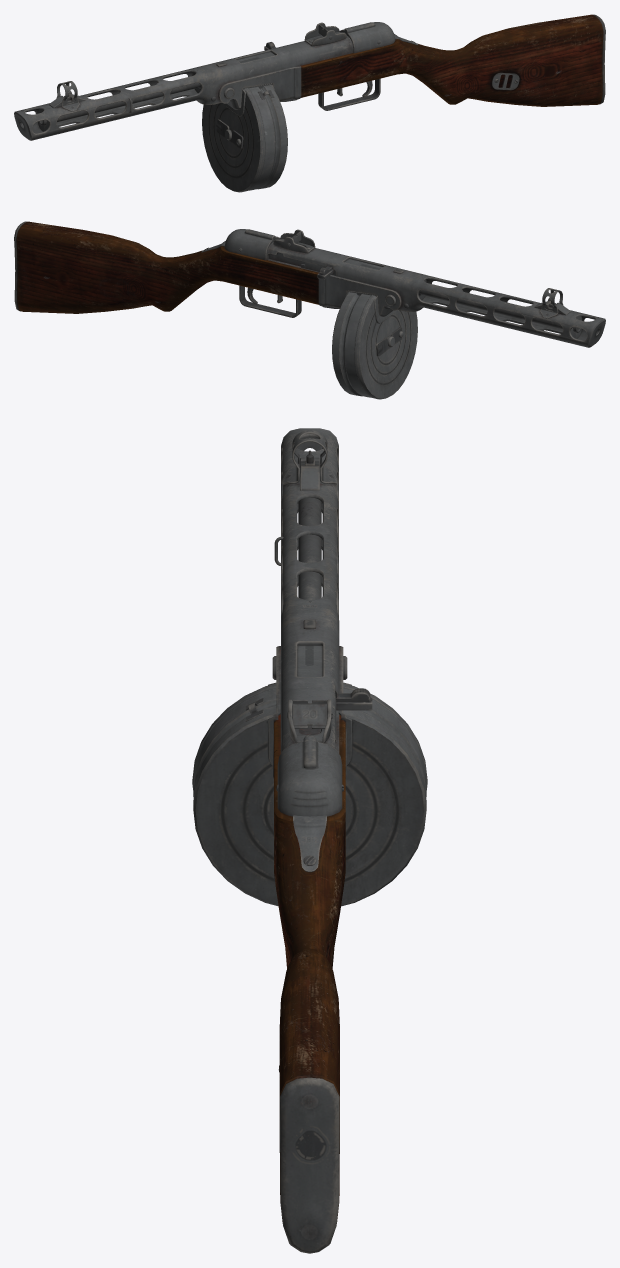
The model's file is ppsh-41.glb.
3 views of the same model, one above another, from view 1: azimuth 30°, elevation 25°; view 2: azimuth 150°, elevation 25°; view 3: azimuth 270°, elevation 25° (orthographic). The views are drawn at different scales.
Parts seen in each view (by area): view 1: ppsh-41_3_low.006, Circle.004; view 2: ppsh-41_3_low.006, Circle.004, ppsh-41_3_low.011; view 3: ppsh-41_3_low.006, Circle.004.
Boxes of the visible parts, <box> form: ppsh-41_3_low.006: <box>14,14,605,140</box>; Circle.004: <box>202,83,287,192</box>; ppsh-41_3_low.006: <box>14,221,605,347</box>; Circle.004: <box>332,290,417,399</box>; ppsh-41_3_low.011: <box>301,262,335,279</box>; ppsh-41_3_low.006: <box>272,428,347,1253</box>; Circle.004: <box>192,682,427,906</box>.
Bounding box in the file's own units: 564 × 139 × 99.06.
Materials: 1 (1 with a texture image).
